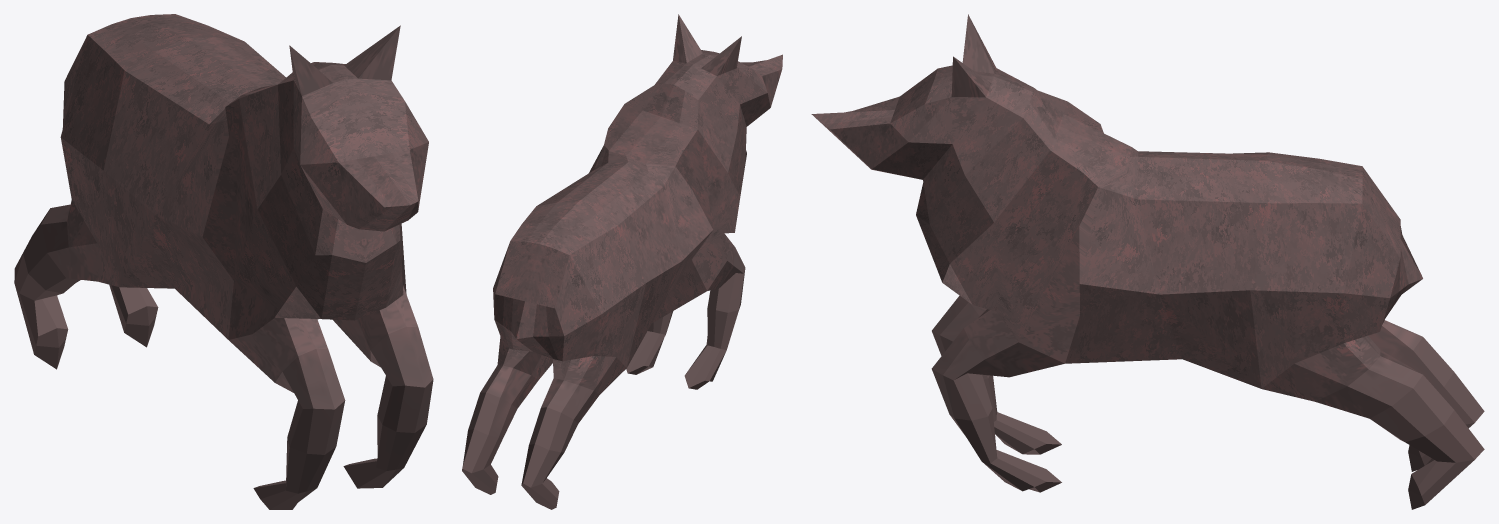
Rendered from piesblendtex_000010.obj.
3 renders of one model, left to right at view 1: azimuth 30°, elevation 25°; view 2: azimuth 150°, elevation 25°; view 3: azimuth 270°, elevation 25°, orthographic. The views are drawn at different scales.
Parts seen in each view (by area): view 1: Cube; view 2: Cube; view 3: Cube.
Part boxes in pixels (<box>): Cube: <box>14,14,433,509</box>; Cube: <box>462,14,782,509</box>; Cube: <box>811,14,1484,509</box>.
Bounding box in the file's own units: 2.56 × 6.91 × 9.4.
